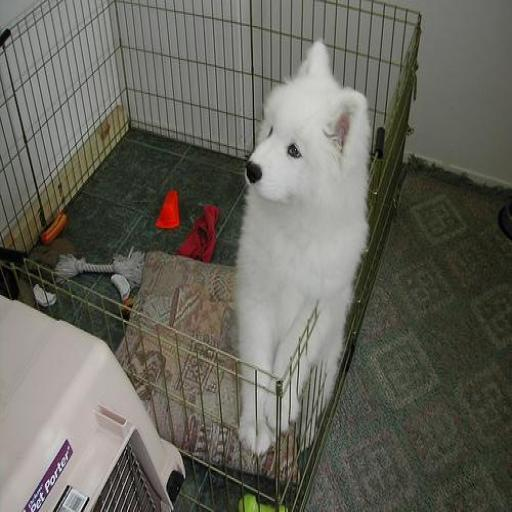dog_face: (243, 47, 364, 206)
